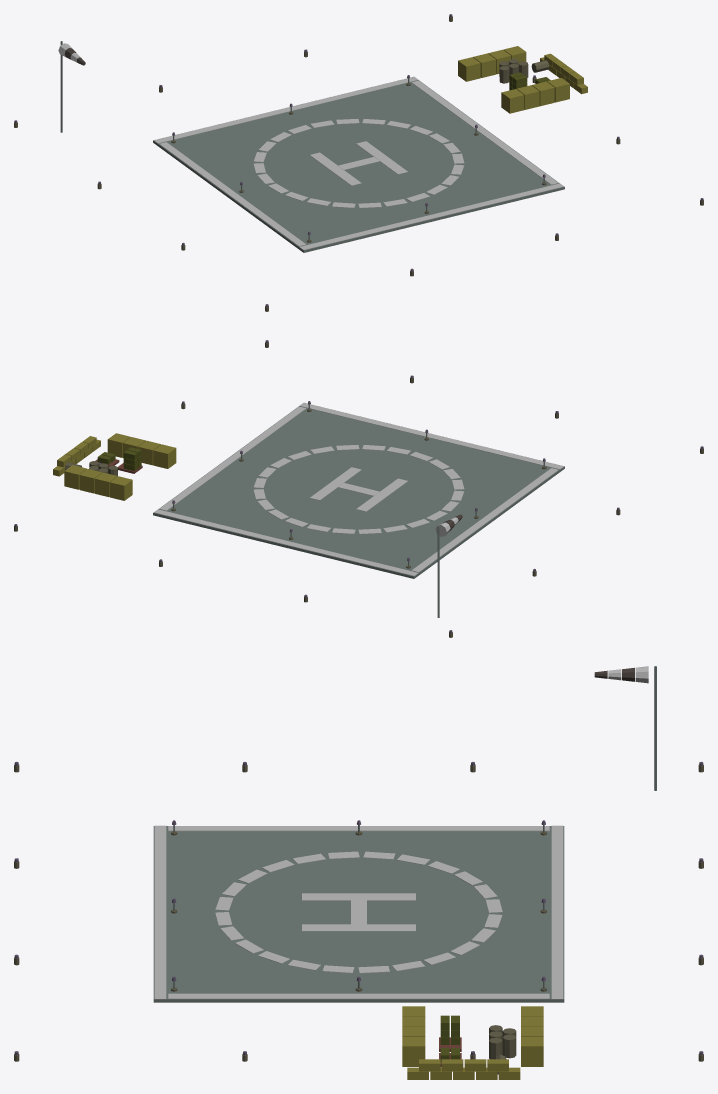
Rendered from SM_Helipuerto_v3_LOD0.fbx.
3 views of the same model, one above another, from view 1: azimuth 30°, elevation 25°; view 2: azimuth 150°, elevation 25°; view 3: azimuth 270°, elevation 25° (orthographic). The views are drawn at different scales.
Parts seen in each view (by area): view 1: SM_bloques.helipuerto_v3_LOD0; view 2: SM_bloques.helipuerto_v3_LOD0; view 3: SM_bloques.helipuerto_v3_LOD0.
Boxes of the visible parts, bbox=[...] form: SM_bloques.helipuerto_v3_LOD0: bbox=[14, 16, 703, 311]; SM_bloques.helipuerto_v3_LOD0: bbox=[14, 342, 703, 637]; SM_bloques.helipuerto_v3_LOD0: bbox=[14, 666, 703, 1079].
Size of the model in its own units: 32.15 by 6 by 30.24.
